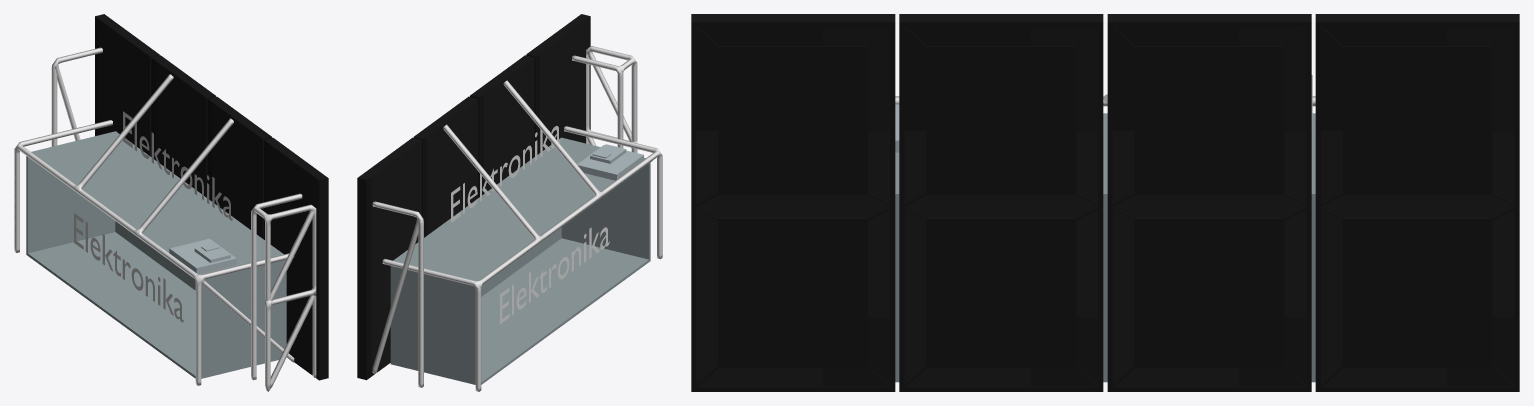
File: clock_blank.fbx
3 views of the same model, side by side, from view 1: azimuth 30°, elevation 25°; view 2: azimuth 150°, elevation 25°; view 3: azimuth 270°, elevation 25° (orthographic). The views are drawn at different scales.
Parts seen in each view (by area): view 1: Cube.004, Clock_face, Plane, Cube.005, Text, Text.001; view 2: Cube.004, Clock_face, Plane, Cube.005, Text, Text.001; view 3: Clock_face, Cube.004.
Part boxes in pixels (x1,y1,x2,y2): Cube.004: [26, 131, 286, 378]; Clock_face: [95, 14, 328, 380]; Plane: [14, 47, 316, 391]; Cube.005: [169, 238, 236, 274]; Text: [74, 213, 183, 322]; Text.001: [123, 111, 232, 220]; Cube.004: [390, 137, 650, 384]; Clock_face: [357, 14, 590, 380]; Plane: [372, 46, 662, 391]; Cube.005: [577, 144, 643, 180]; Text: [500, 227, 609, 324]; Text.001: [451, 126, 560, 222]; Clock_face: [691, 14, 1519, 391]; Cube.004: [895, 113, 1315, 382].
Size of the model in its own units: 111 by 202 by 406.
Materials: 2 (1 with a texture image).
